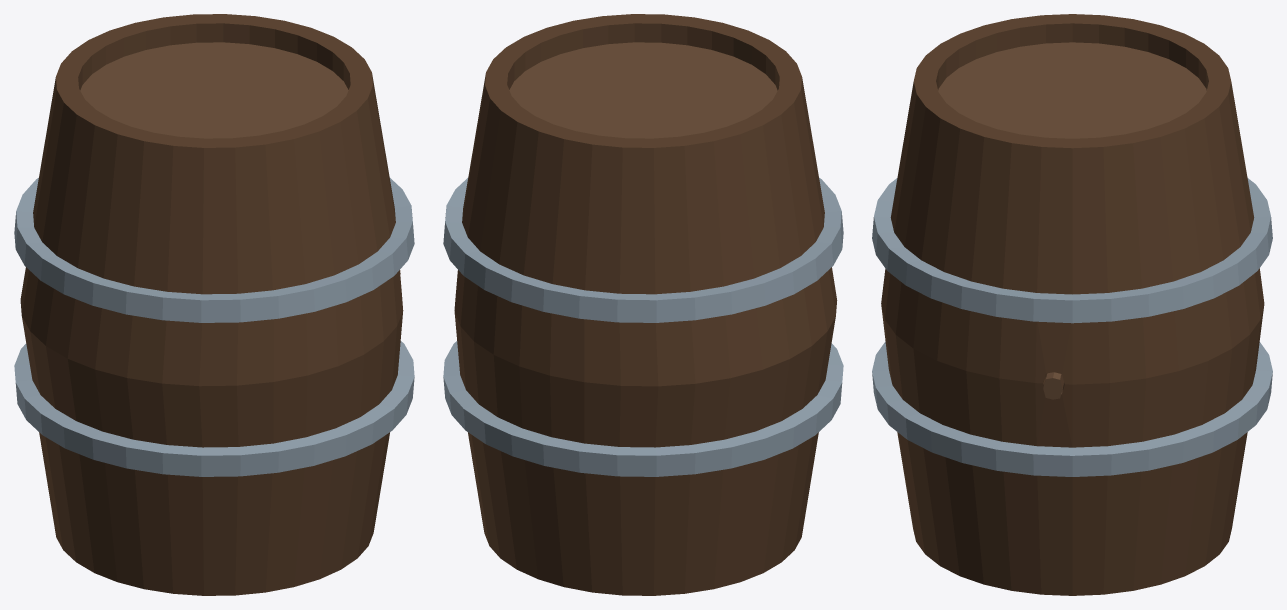
The model's file is Barril.fbx.
3 renders of one model, left to right at view 1: azimuth 30°, elevation 25°; view 2: azimuth 150°, elevation 25°; view 3: azimuth 270°, elevation 25°, orthographic.
Visible parts, largest first — view 1: Cylinder.004; view 2: Cylinder.004; view 3: Cylinder.004.
Boxes of the visible parts, box(x1,y1,x2,y2) form: Cylinder.004: box(14, 14, 414, 595); Cylinder.004: box(443, 14, 843, 595); Cylinder.004: box(872, 14, 1272, 595).
Size of the model in its own units: 251 by 310 by 251.
